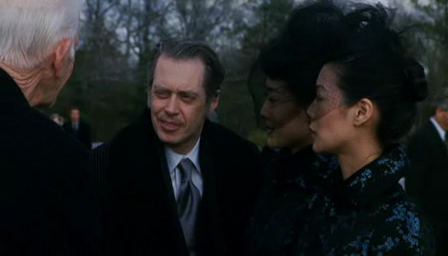face: (151, 74, 203, 142), (260, 74, 296, 149), (307, 80, 343, 152)
mcu: (1, 1, 448, 256)
ots: (1, 1, 96, 256)
person: (91, 34, 291, 256), (295, 2, 438, 256)
